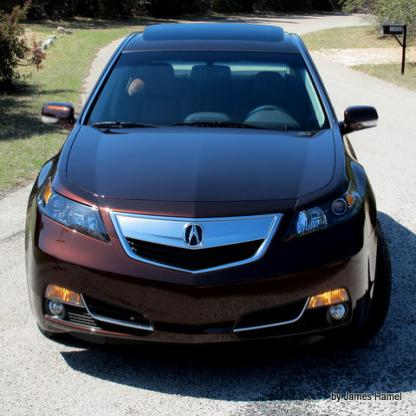Vehicle: (13, 9, 406, 406)
